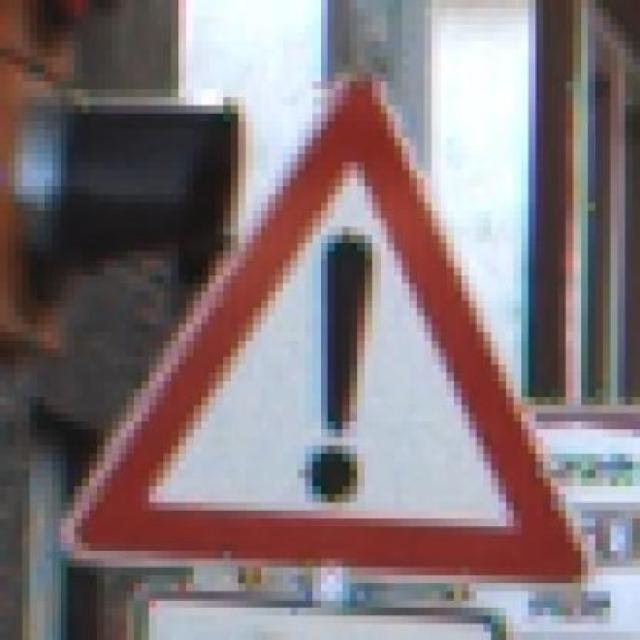Attention Please-: (59, 56, 596, 592)
